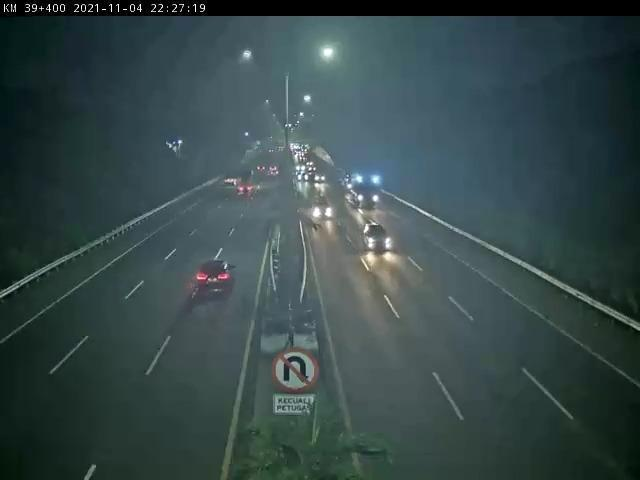car: (199, 262, 236, 297), (361, 224, 394, 251), (312, 198, 334, 221)
truck: (347, 173, 381, 207), (235, 172, 256, 199)
